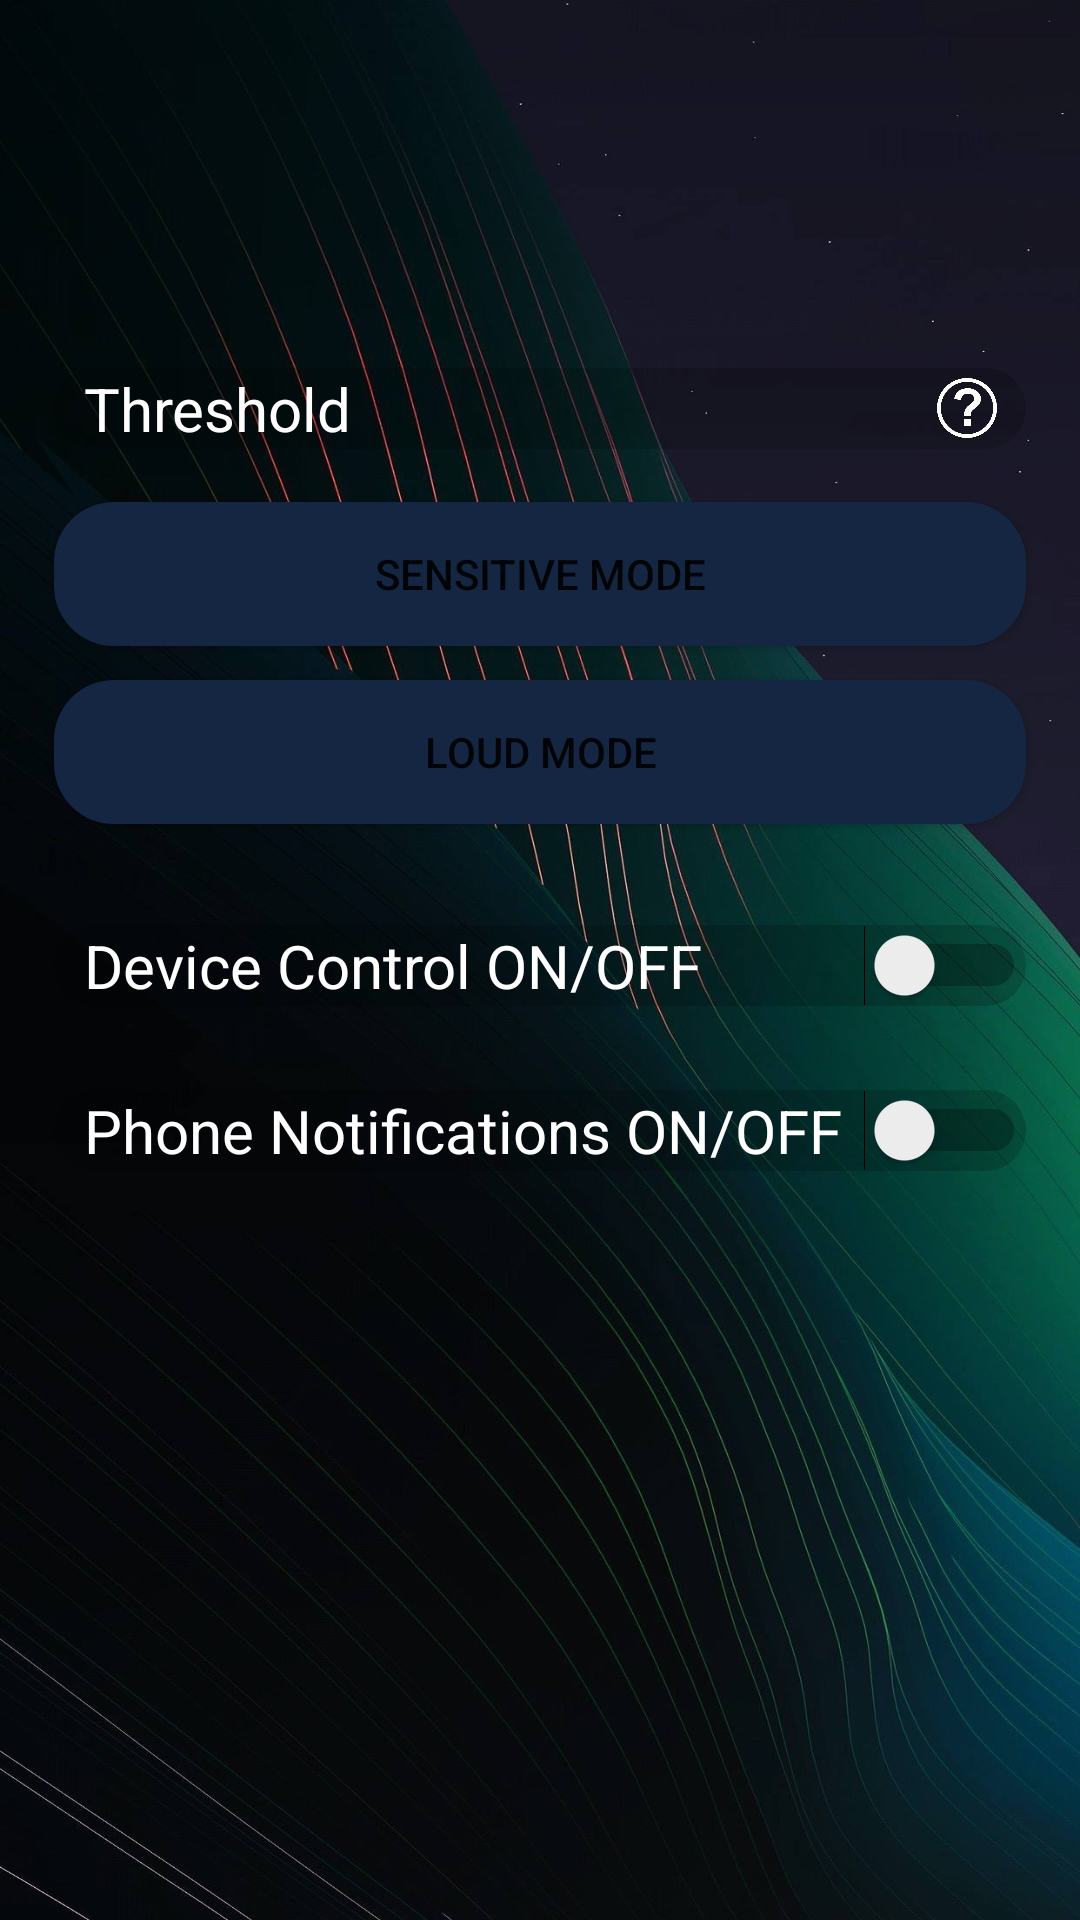

Icon bounding boxes for this 1080×1920 phone screenshot, format (x1, y1, x2, y2):
question mark: (937, 378, 997, 438)
